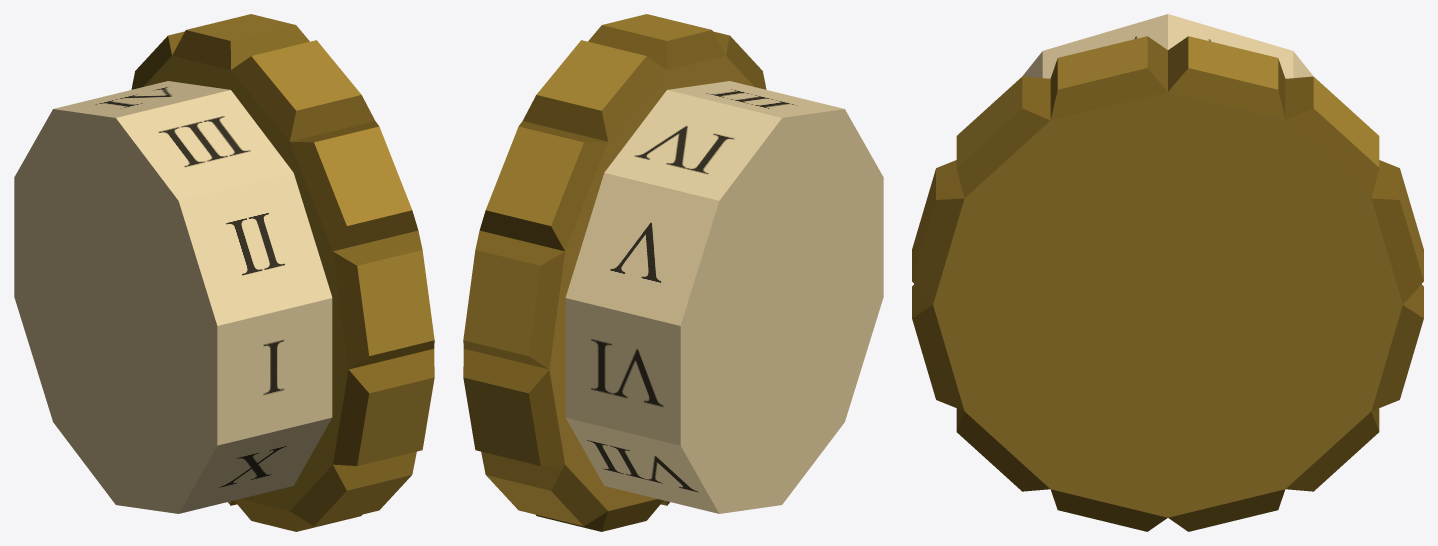
Rendered from Padlock_roulette.glb.
3 renders of one model, left to right at view 1: azimuth 30°, elevation 25°; view 2: azimuth 150°, elevation 25°; view 3: azimuth 270°, elevation 25°, orthographic.
Parts seen in each view (by area): view 1: Cylinder.015; view 2: Cylinder.015; view 3: Cylinder.015.
Part boxes in pixels (x1,y1,x2,y2): Cylinder.015: (14, 14, 434, 531); Cylinder.015: (463, 14, 883, 531); Cylinder.015: (912, 14, 1423, 531).
Size of the model in its own units: 0.1083 by 0.2398 by 0.2398.
2 materials, 2 textured.
